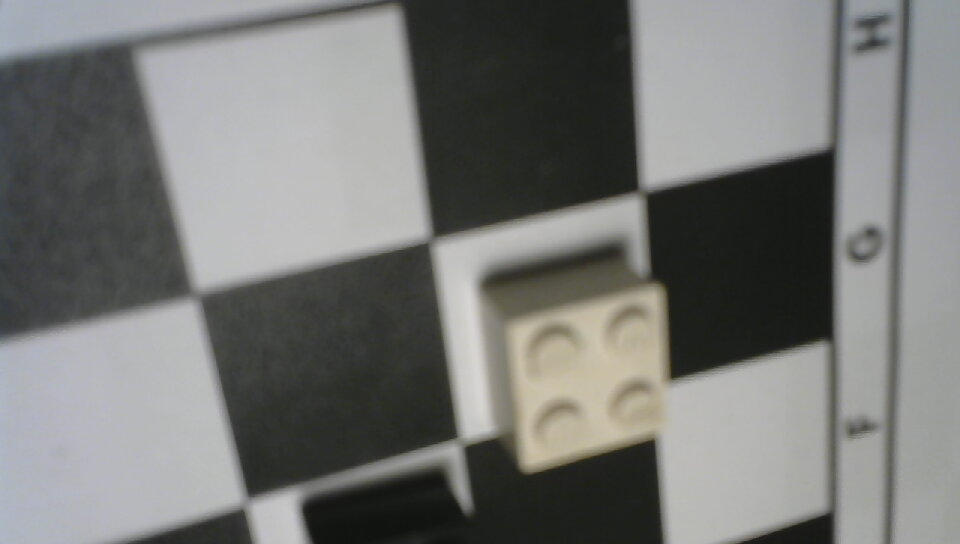wp: (462, 244, 689, 487)
